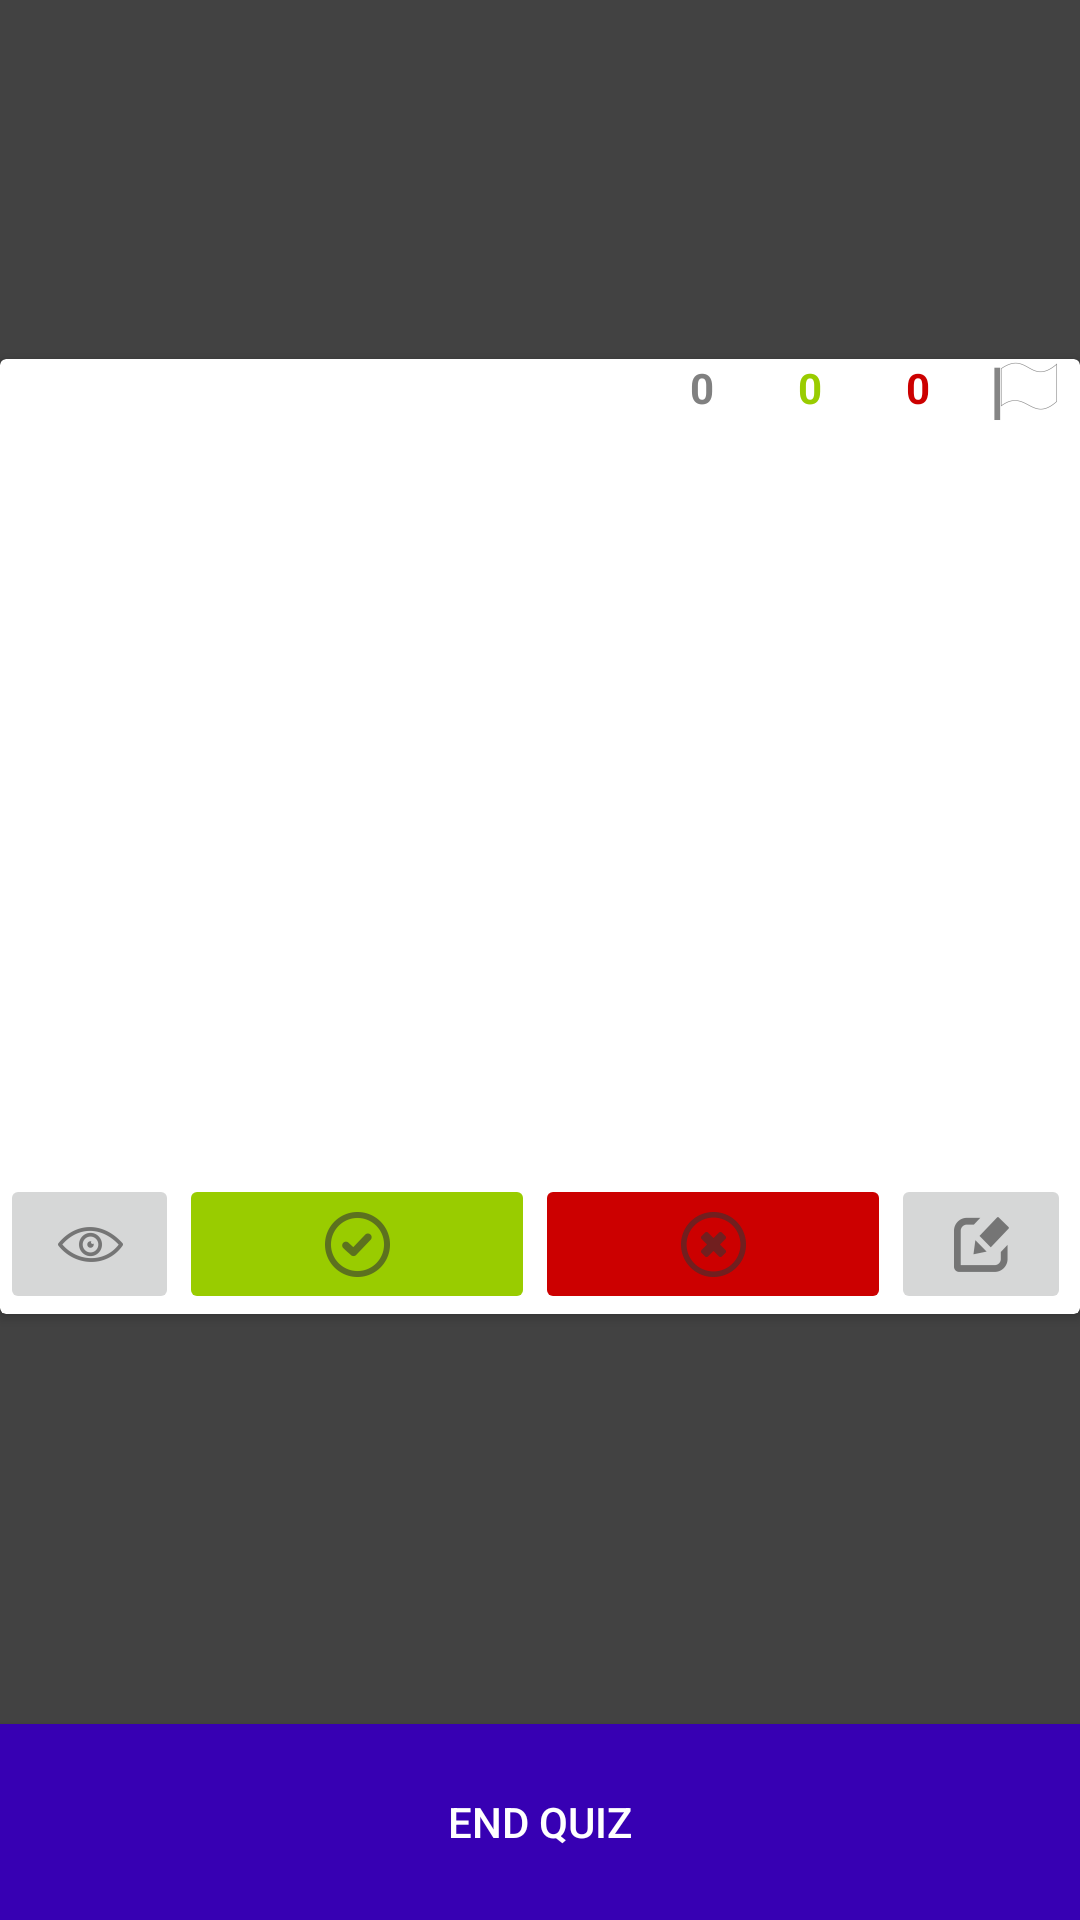

Point at icon controls on the screen. Image size 1080 x 1920, points as (x=x, y=y).
Edit card: (x=981, y=1244)
I don't know this: (x=713, y=1244)
I know this: (x=357, y=1244)
Peek at answer: (x=89, y=1244)
Toggle flag for card: (x=1025, y=391)
